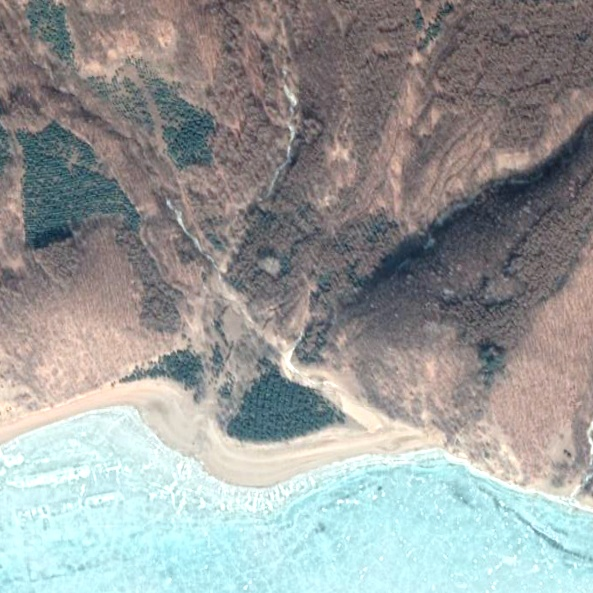slope: (193, 272, 258, 433), (252, 273, 313, 361)
